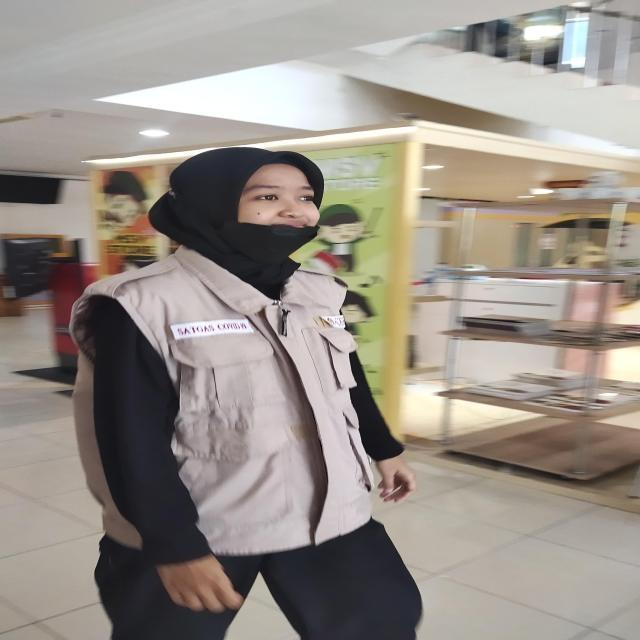hairnet: (144, 145, 326, 264)
